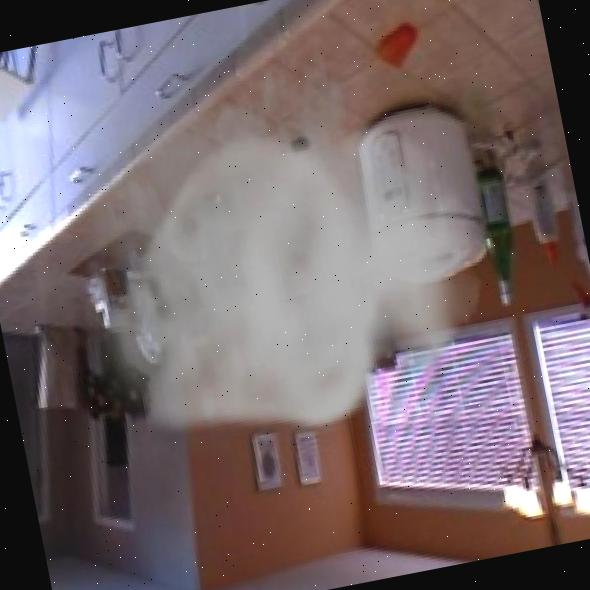smoke: (23, 0, 509, 477)
